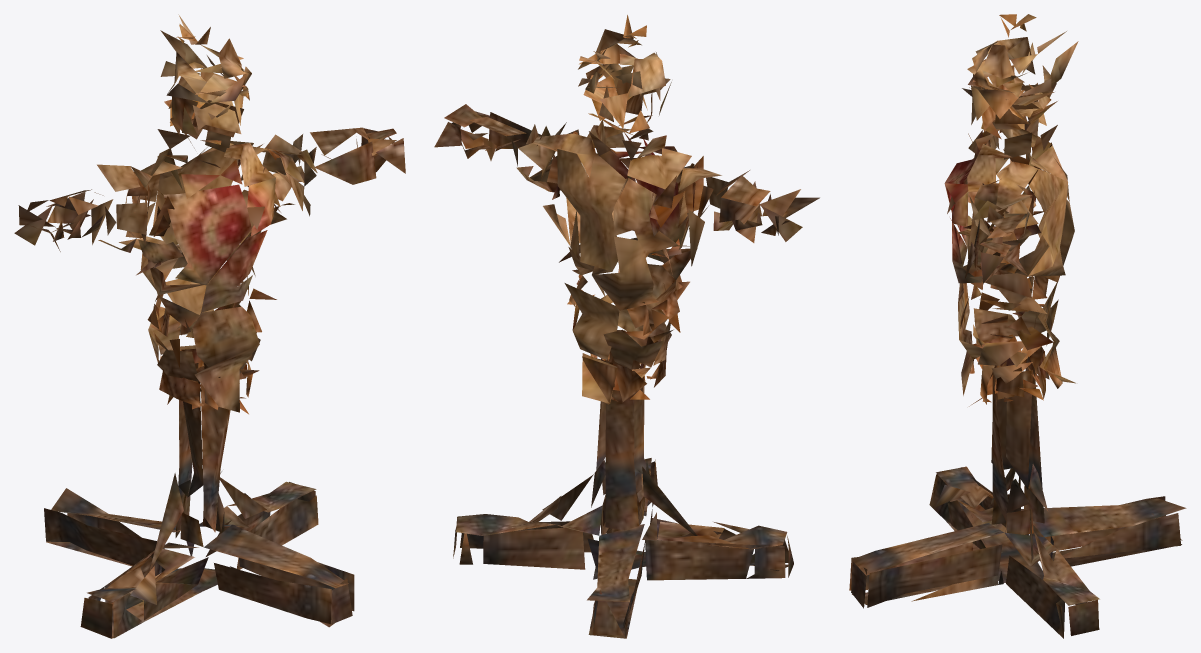
File: boneco_lod2.glb
The picture shows the model from 3 angles, left to right: view 1: azimuth 30°, elevation 25°; view 2: azimuth 150°, elevation 25°; view 3: azimuth 270°, elevation 25°; orthographic projection. The views are drawn at different scales.
Visible parts, largest first — view 1: boneco; view 2: boneco; view 3: boneco.
Part boxes in pixels (x1,y1,x2,y2): boneco: (14,14,405,638); boneco: (434,15,819,638); boneco: (849,14,1186,638).
Bounding box in the file's own units: 1.3 × 1.93 × 1.04.
1 material, 1 textured.
